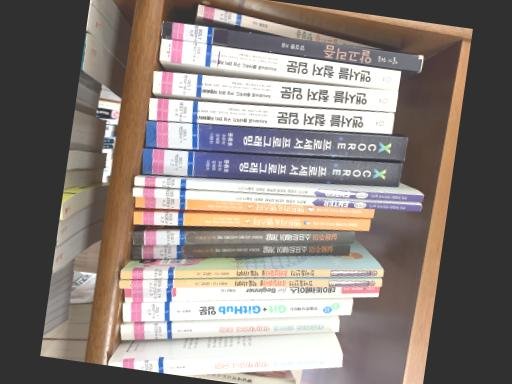book-spine: (161, 20, 422, 71), (158, 39, 399, 91), (144, 120, 407, 160), (141, 148, 401, 187), (152, 72, 397, 112), (148, 97, 394, 134), (196, 4, 384, 50), (135, 175, 423, 201), (132, 188, 421, 212), (121, 299, 352, 322), (134, 197, 375, 219), (107, 353, 341, 375), (119, 318, 339, 340), (132, 211, 370, 230), (123, 287, 379, 302), (130, 243, 349, 259), (131, 230, 354, 245), (119, 268, 383, 279), (118, 278, 382, 288)
